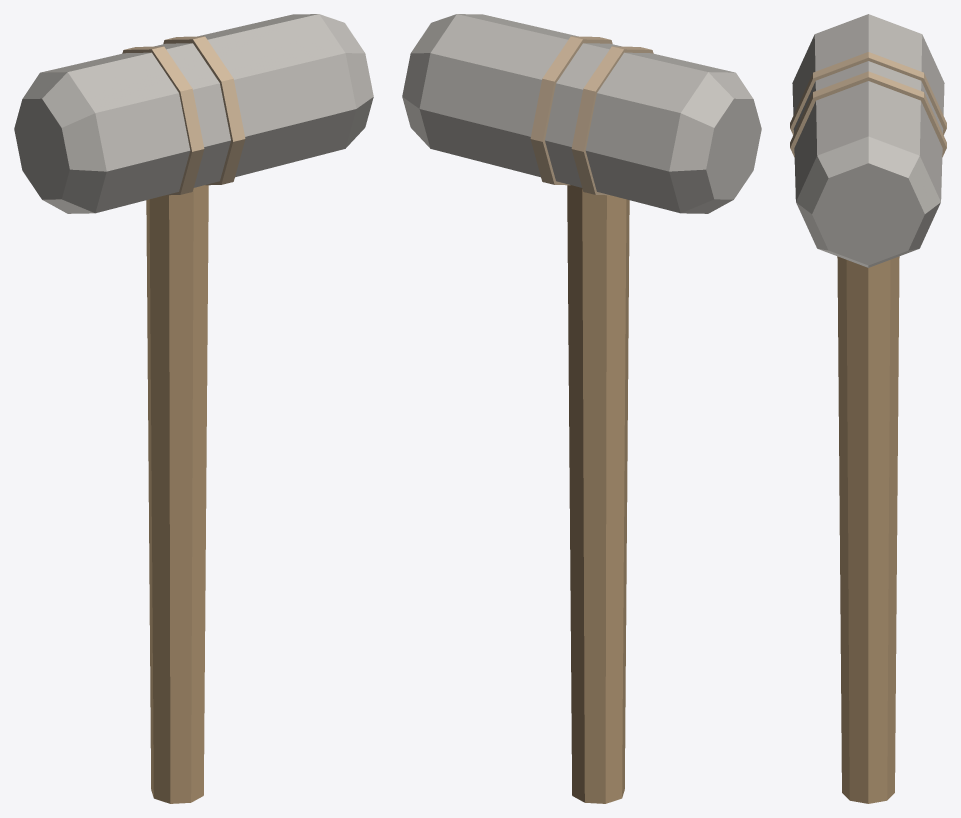
Rendered from grip_mallet.glb.
3 views of the same model, side by side, from view 1: azimuth 30°, elevation 25°; view 2: azimuth 150°, elevation 25°; view 3: azimuth 270°, elevation 25° (orthographic). The views are drawn at different scales.
Visible parts, largest first — view 1: s2_grip_mallet; view 2: s2_grip_mallet; view 3: s2_grip_mallet.
Part boxes in pixels (<box>): s2_grip_mallet: <box>14,14,373,803</box>; s2_grip_mallet: <box>402,14,761,803</box>; s2_grip_mallet: <box>790,14,946,803</box>.
Size of the model in its own units: 0.295 by 0.698 by 0.136.
